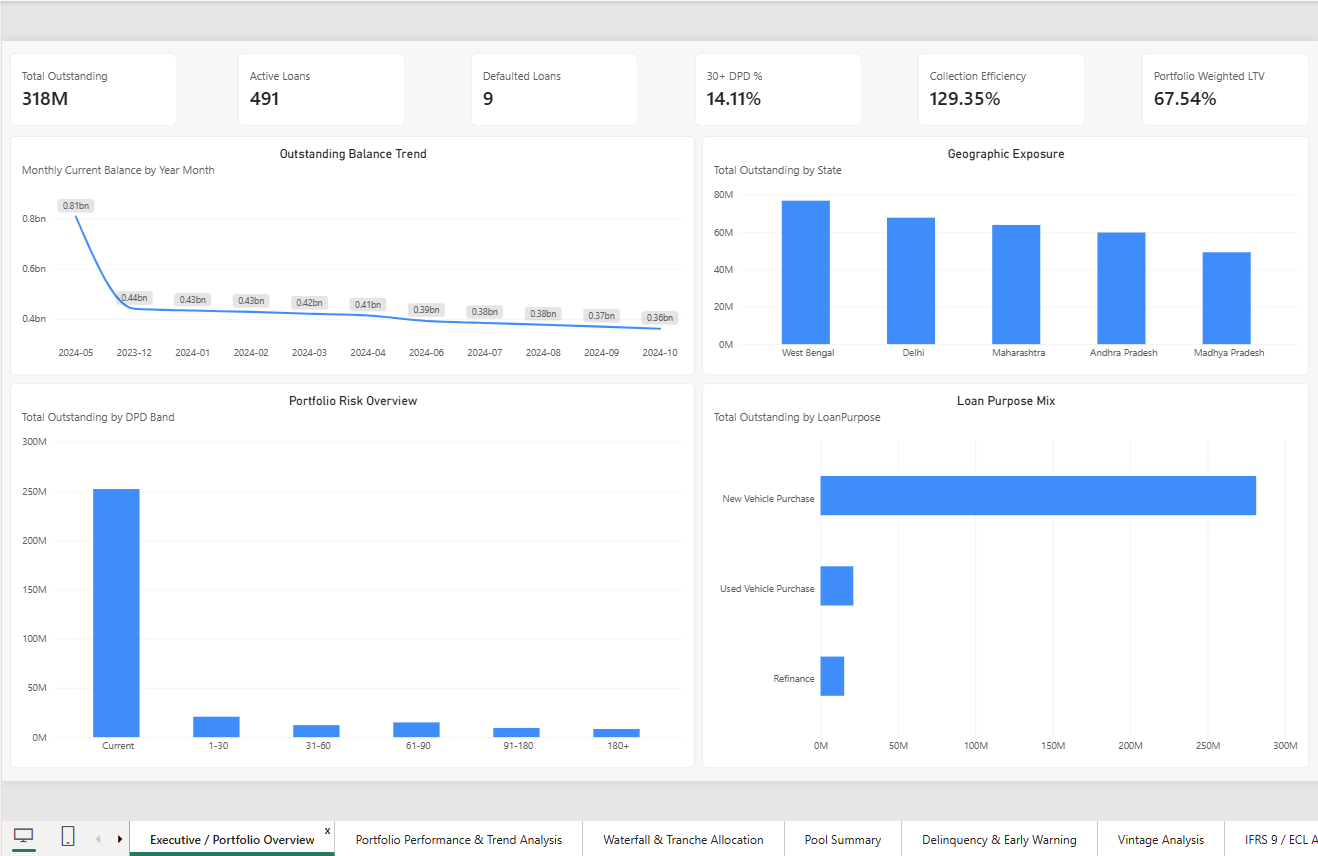

Layout of this report page (visuals, bound fields, positions):
{"tool":"powerbi","page":{"name":"Executive / Portfolio Overview","canvas":[1920,1080],"ordinal":0},"visuals":[{"type":"cardVisual","fields":{"Data":["Dimloan.Total Outstanding"]},"box":[11.7,17.5,243.6,106.5],"z":0},{"type":"cardVisual","fields":{"Data":["Dimloan.Active Loans"]},"box":[344.3,17.5,243.6,106.5],"z":1000},{"type":"cardVisual","fields":{"Data":["Dimloan.Defaulted Loans"]},"box":[684.3,17.5,243.6,106.5],"z":2000},{"type":"cardVisual","fields":{"Data":["Dimloan.30+ DPD %"]},"box":[1011.1,17.5,243.6,106.5],"z":3000},{"type":"cardVisual","fields":{"Data":["_Measures.Collection Efficiency"]},"box":[1336.4,17.5,243.6,106.5],"z":4000},{"type":"cardVisual","fields":{"Data":["Dimloan.Portfolio Weighted LTV"]},"box":[1663.2,17.5,243.6,106.5],"z":5000},{"type":"lineChart","title":"Outstanding Balance Trend","fields":{"Category":["Dimdate.Year Month"],"Y":["Dimloan.Monthly Current Balance"]},"box":[11.7,138.6,999.4,348.7],"z":6000},{"type":"clusteredColumnChart","title":"Portfolio Risk Overview","fields":{"Category":["Dimloan.DPD Band"],"Y":["Dimloan.Total Outstanding"]},"box":[11.7,499,999.4,561.7],"z":7000},{"type":"clusteredBarChart","title":"Loan Purpose Mix","fields":{"Category":["Dimloan.LoanPurpose"],"Y":["Dimloan.Total Outstanding"]},"box":[1021.3,499,885.6,561.7],"z":8000},{"type":"clusteredColumnChart","title":"Geographic Exposure","fields":{"Category":["DimGeography.State"],"Y":["Dimloan.Total Outstanding"]},"box":[1021.3,138.6,885.6,348.7],"z":9000}]}

Visuals, with their boxes on the page's 1920x1080 design canvas (x1, y1, x2, y2). These are canvas units, not pixel positions in the 1318x856 screenshot, which may show the page scaled, cropped or inside an application window:
cardVisual - Dimloan.Total Outstanding: <box>12,18,255,124</box>
cardVisual - Dimloan.Active Loans: <box>344,18,588,124</box>
cardVisual - Dimloan.Defaulted Loans: <box>684,18,928,124</box>
cardVisual - Dimloan.30+ DPD %: <box>1011,18,1255,124</box>
cardVisual - _Measures.Collection Efficiency: <box>1336,18,1580,124</box>
cardVisual - Dimloan.Portfolio Weighted LTV: <box>1663,18,1907,124</box>
"Outstanding Balance Trend" lineChart: <box>12,139,1011,487</box>
"Portfolio Risk Overview" clusteredColumnChart: <box>12,499,1011,1061</box>
"Loan Purpose Mix" clusteredBarChart: <box>1021,499,1907,1061</box>
"Geographic Exposure" clusteredColumnChart: <box>1021,139,1907,487</box>
